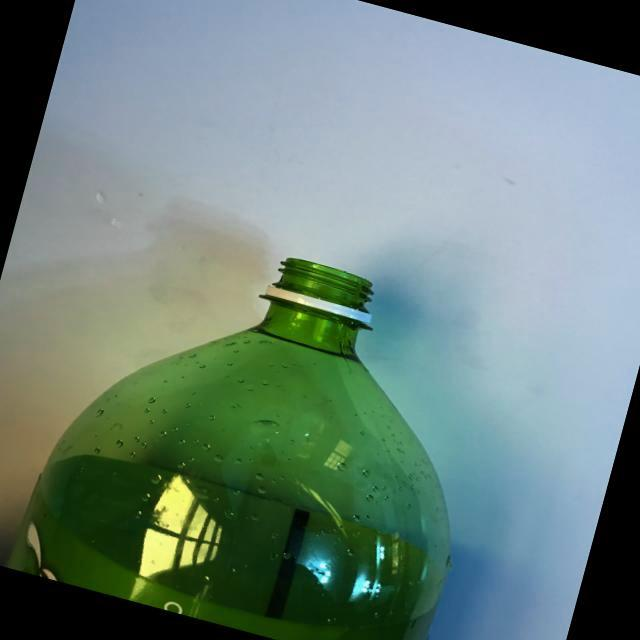plastic: (0, 164, 529, 640)
